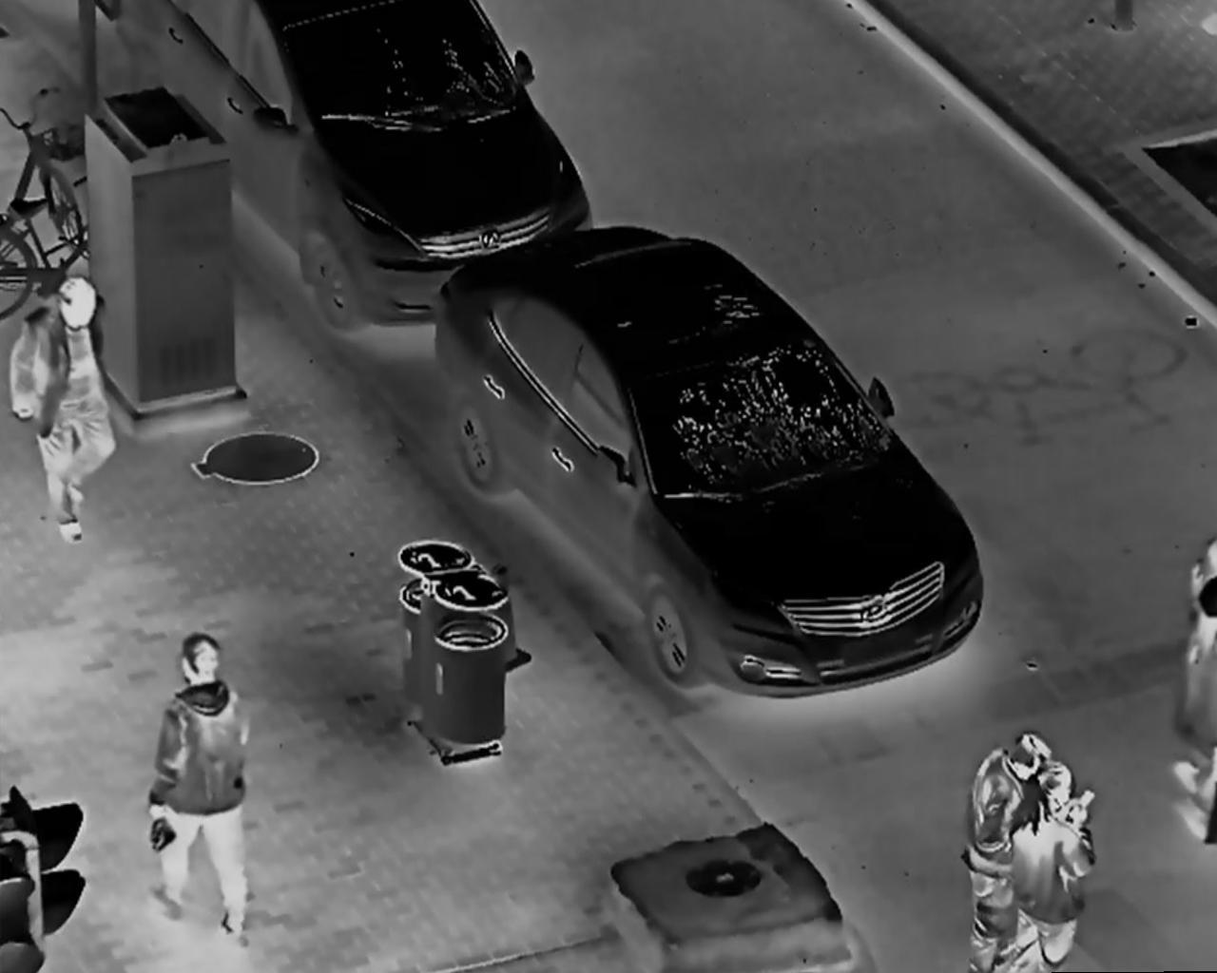person: (144, 629, 257, 943), (11, 275, 118, 547), (1006, 759, 1104, 973), (968, 730, 1053, 973)
